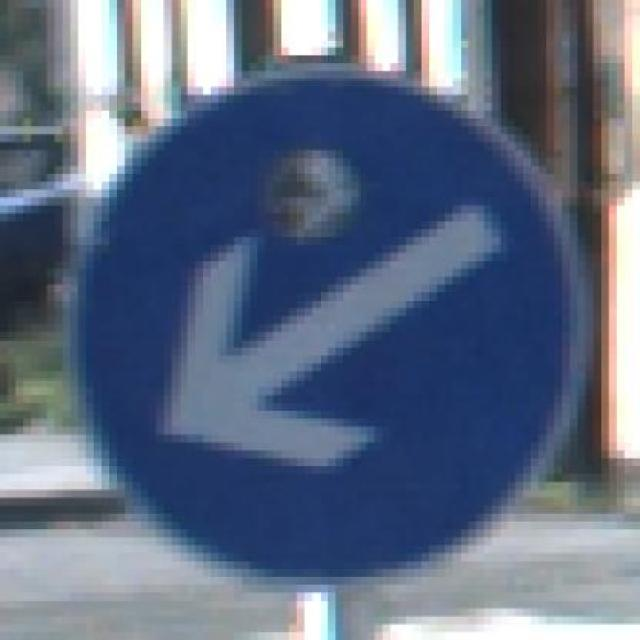Keep-Left: (70, 71, 585, 592)
